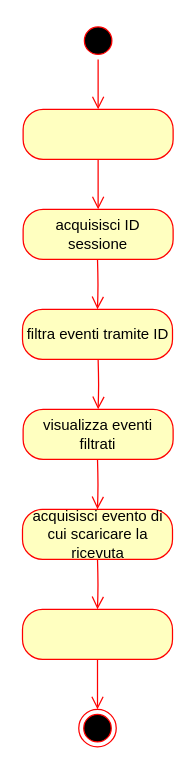
Image size: 195x769. Some labels were removed from this diagram. The shapes that lost their labels are listed below. From the top down, each one's centre as x and y in pixels, then its label:
(x=97, y=133): richiesta visualizza eventi creati
(x=96, y=633): scarica ricevuta
